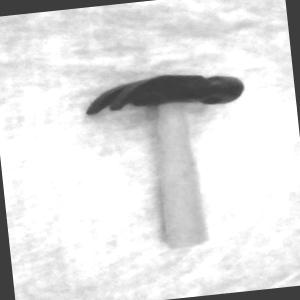martelo: (83, 64, 264, 258)
